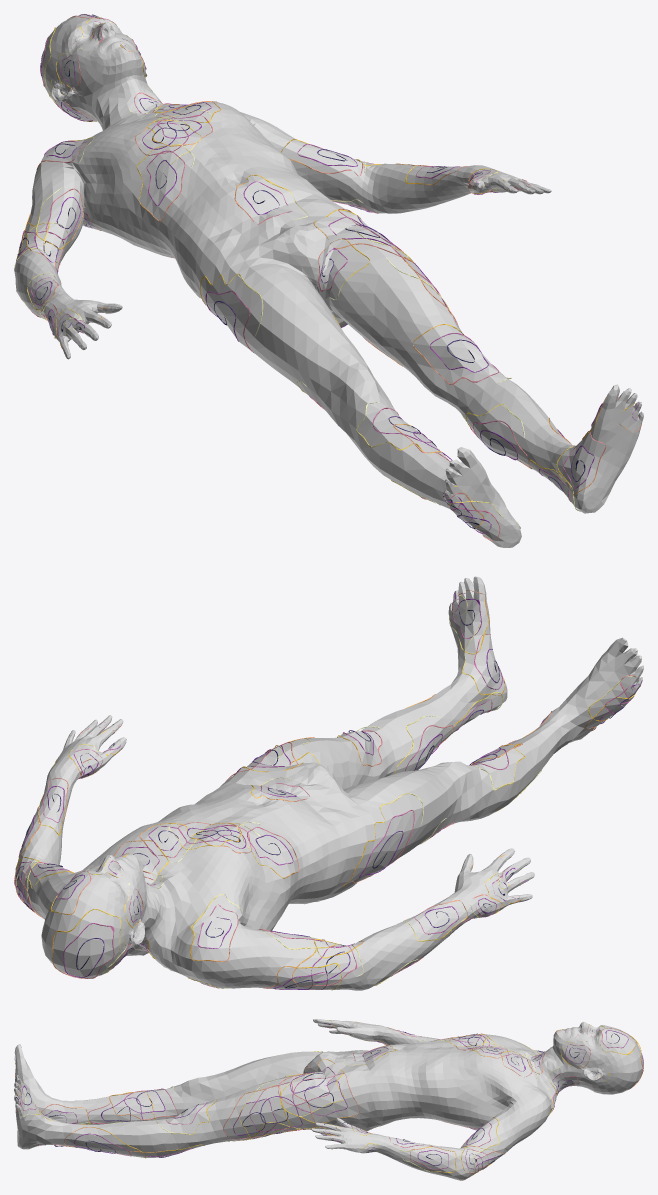
Rendered from body_ours_l3_spiral.glb.
3 renders of one model, top to bottom at view 1: azimuth 30°, elevation 25°; view 2: azimuth 150°, elevation 25°; view 3: azimuth 270°, elevation 25°, orthographic. The views are drawn at different scales.
Visible parts, largest first — view 1: imagetostl_mesh0; view 2: imagetostl_mesh0; view 3: imagetostl_mesh0.
Boxes of the visible parts, box(x1,y1,x2,y2) form: imagetostl_mesh0: box(14, 14, 643, 547); imagetostl_mesh0: box(14, 576, 643, 990); imagetostl_mesh0: box(14, 1019, 643, 1180).
Size of the model in its own units: 1 by 0.3865 by 1.78.
